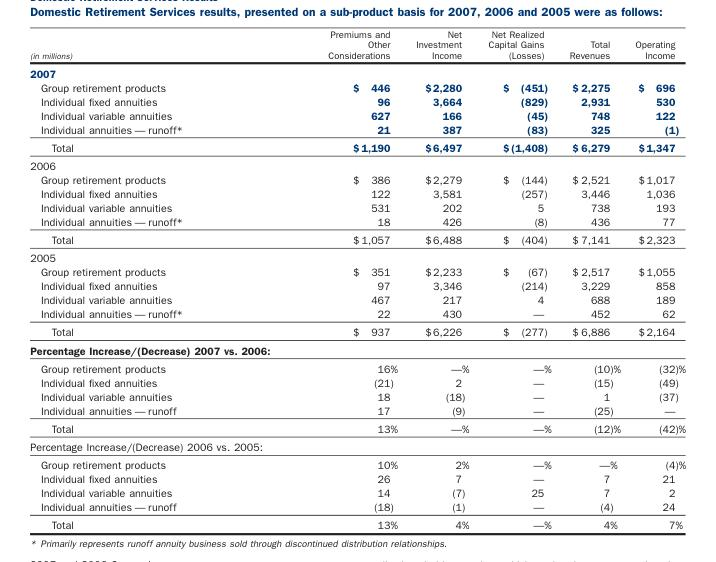table: (29, 28, 685, 530)
table column: (29, 28, 254, 530), (254, 28, 406, 530), (478, 28, 559, 530), (406, 28, 478, 530), (559, 28, 627, 530), (627, 28, 685, 530)
table column header: (29, 28, 685, 63)
table projected row header: (29, 340, 685, 358), (29, 437, 685, 455), (29, 63, 685, 80), (29, 156, 685, 172), (29, 248, 685, 264)
table row: (29, 28, 685, 63), (29, 137, 685, 156), (29, 418, 685, 437), (29, 230, 685, 248), (29, 322, 685, 340), (29, 340, 685, 358), (29, 437, 685, 455), (29, 63, 685, 80), (29, 213, 685, 230), (29, 121, 685, 137), (29, 156, 685, 172), (29, 248, 685, 264), (29, 306, 685, 322), (29, 358, 685, 374), (29, 402, 685, 418), (29, 455, 685, 471), (29, 499, 685, 515), (29, 515, 685, 530), (29, 93, 685, 107), (29, 107, 685, 121), (29, 172, 685, 186), (29, 186, 685, 200), (29, 264, 685, 278), (29, 278, 685, 292), (29, 292, 685, 306), (29, 374, 685, 388), (29, 388, 685, 402), (29, 471, 685, 485), (29, 485, 685, 499), (29, 80, 685, 93), (29, 200, 685, 213)
